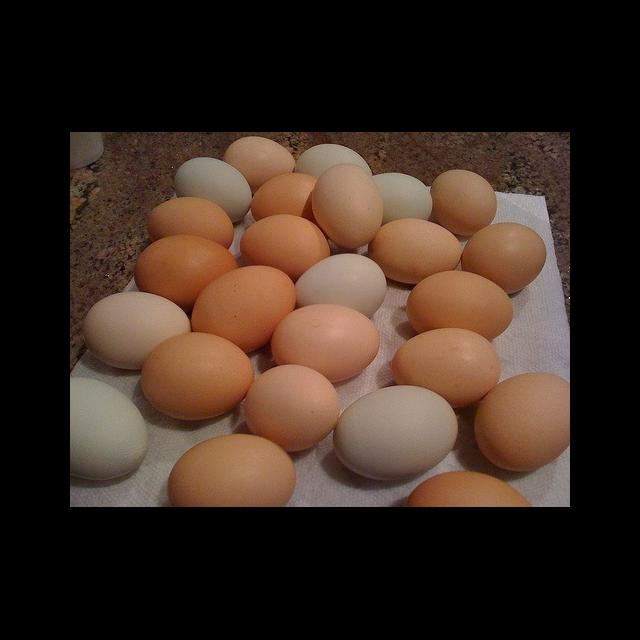egg: (332, 384, 458, 482), (140, 332, 254, 421), (474, 372, 569, 472), (190, 264, 296, 352), (167, 434, 296, 506), (391, 328, 501, 408), (82, 290, 191, 370), (243, 363, 340, 452), (270, 304, 380, 382), (70, 376, 148, 482), (133, 234, 238, 310), (406, 270, 513, 340), (460, 222, 546, 294), (239, 214, 330, 282), (368, 218, 461, 284), (294, 252, 386, 318), (311, 164, 383, 248), (173, 156, 252, 222), (146, 196, 234, 248), (430, 168, 497, 236), (405, 471, 532, 506), (223, 136, 295, 192), (250, 172, 317, 222), (371, 172, 432, 224), (294, 143, 372, 180)
